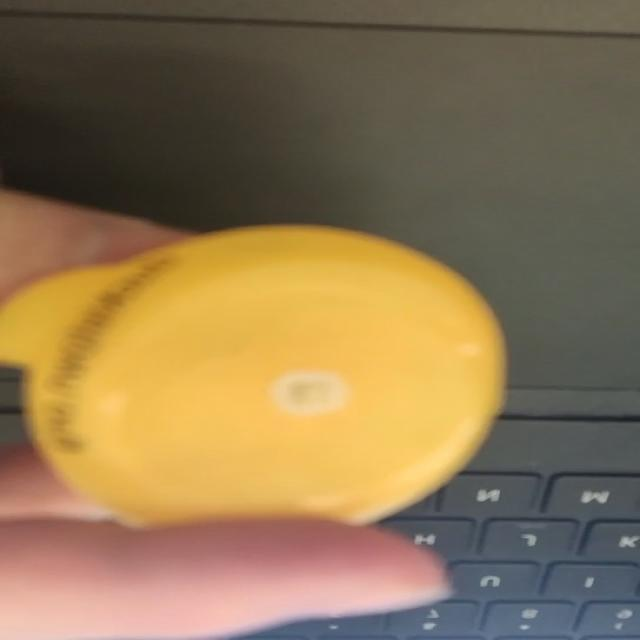rubber-duck: (0, 225, 504, 523)
